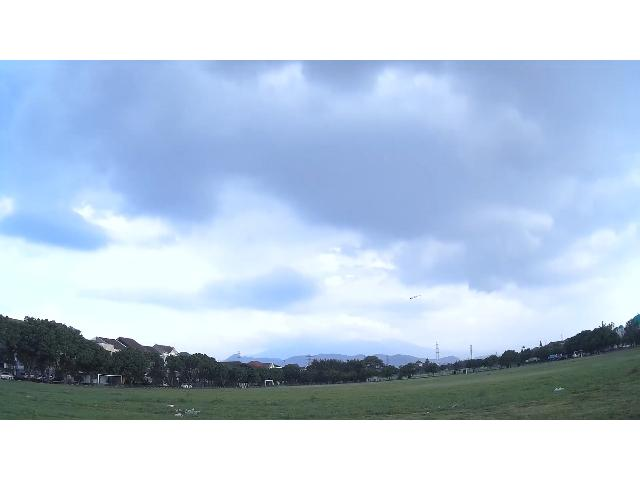Anti-Drone: (396, 291, 432, 305)
